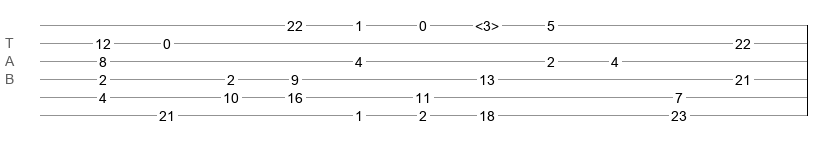0: (163, 36, 171, 46), (419, 18, 427, 28)
1: (355, 18, 363, 28), (355, 108, 363, 118)
10: (223, 90, 239, 100)
11: (415, 90, 431, 100)
12: (95, 36, 111, 46)
13: (479, 72, 495, 82)
16: (287, 90, 303, 100)
18: (479, 108, 495, 118)
2: (99, 72, 107, 82), (227, 72, 235, 82), (419, 108, 427, 118), (547, 54, 555, 64)
21: (159, 108, 175, 118), (735, 72, 751, 82)
22: (287, 18, 303, 28), (735, 36, 751, 46)
23: (671, 108, 687, 118)
4: (99, 90, 107, 100), (355, 54, 363, 64), (611, 54, 619, 64)
5: (547, 18, 555, 28)
7: (675, 90, 683, 100)
8: (99, 54, 107, 64)
9: (291, 72, 299, 82)
harmonic: (475, 18, 499, 28)
